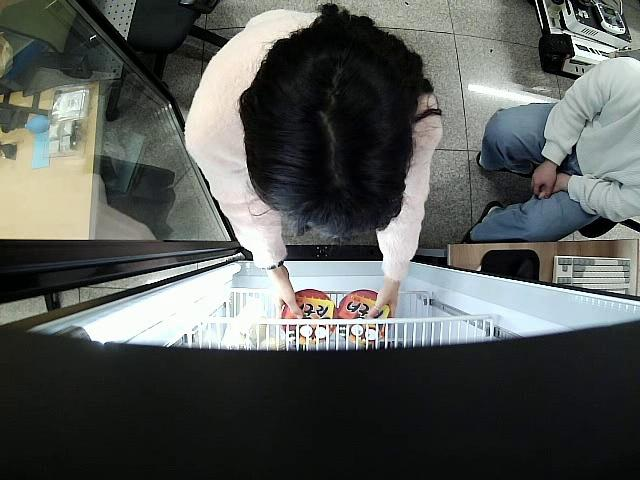00_hand: (266, 271, 305, 319), (365, 284, 399, 321), (529, 161, 558, 197)
05_nuguri_L: (337, 289, 396, 348), (281, 289, 339, 344)
